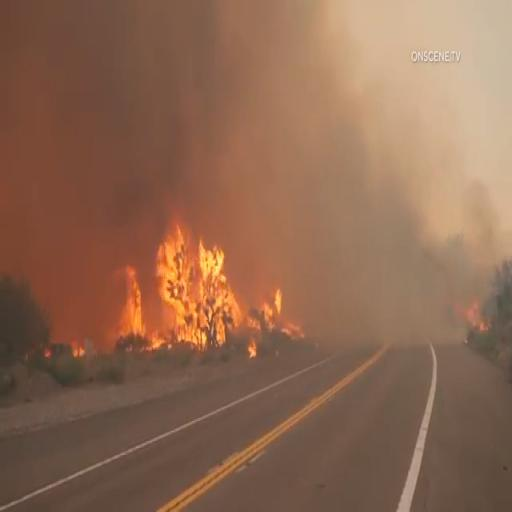fire: (146, 205, 220, 349), (228, 272, 300, 360), (447, 290, 478, 340), (64, 334, 80, 365)
smoke: (4, 6, 398, 204), (415, 73, 506, 210), (324, 222, 426, 342), (9, 204, 107, 278)
